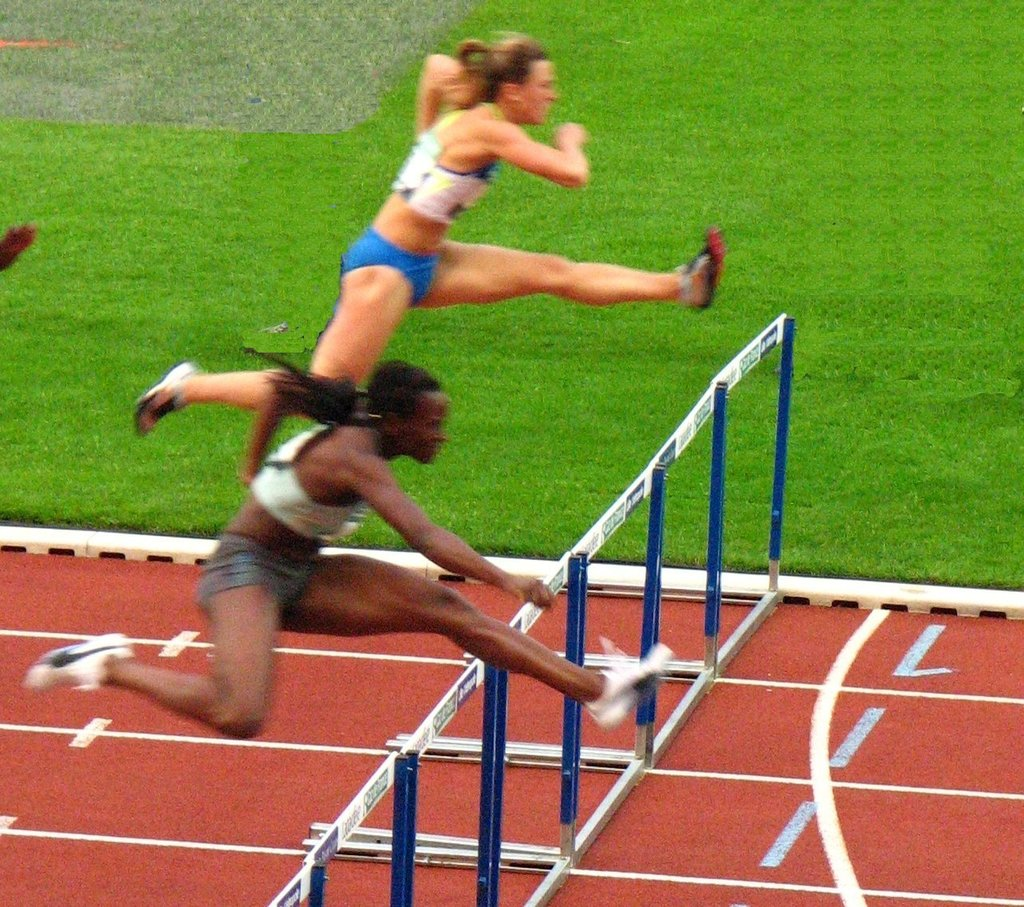Person: (20, 342, 673, 737), (133, 30, 723, 436)
